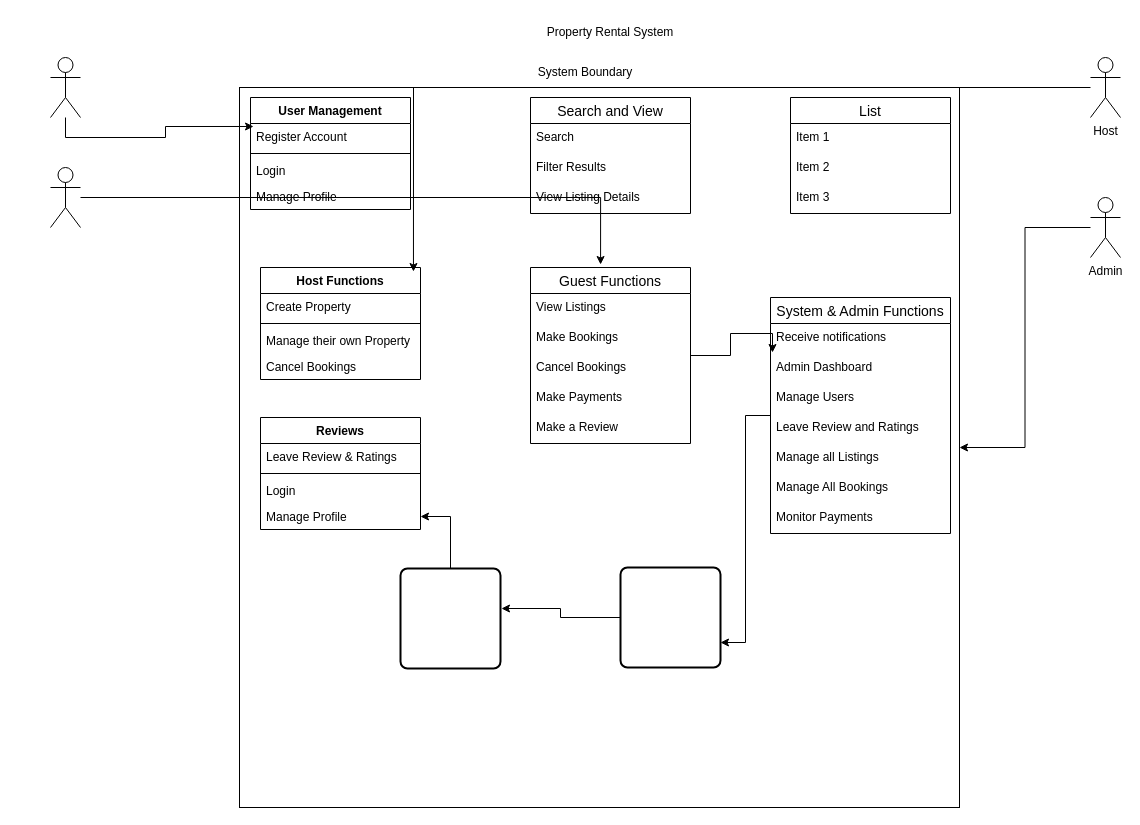
This 1140x825 diagram has some shape labels left out. The centre of each missing label's shape, as x and y in pixels:
Guest: the point at 65,197
OAuth Provider: the point at 450,618
Payment Gateway: the point at 670,617
Unregistered User: the point at 65,87
